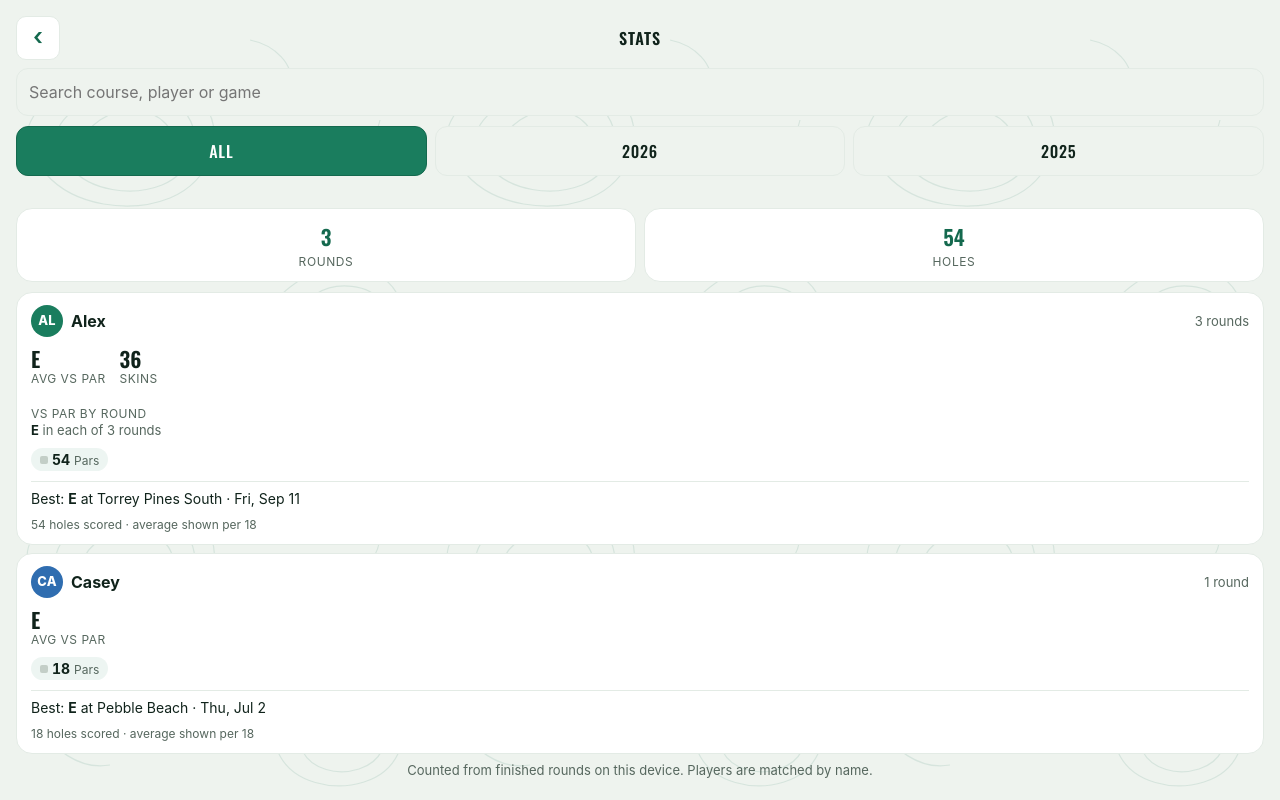
Scenario: filtering the stats › combines the two, and names both when they leave nothing
Step 1. Click the button "2025" → {"x": 1059, "y": 151}, box [853, 126, 1264, 176]
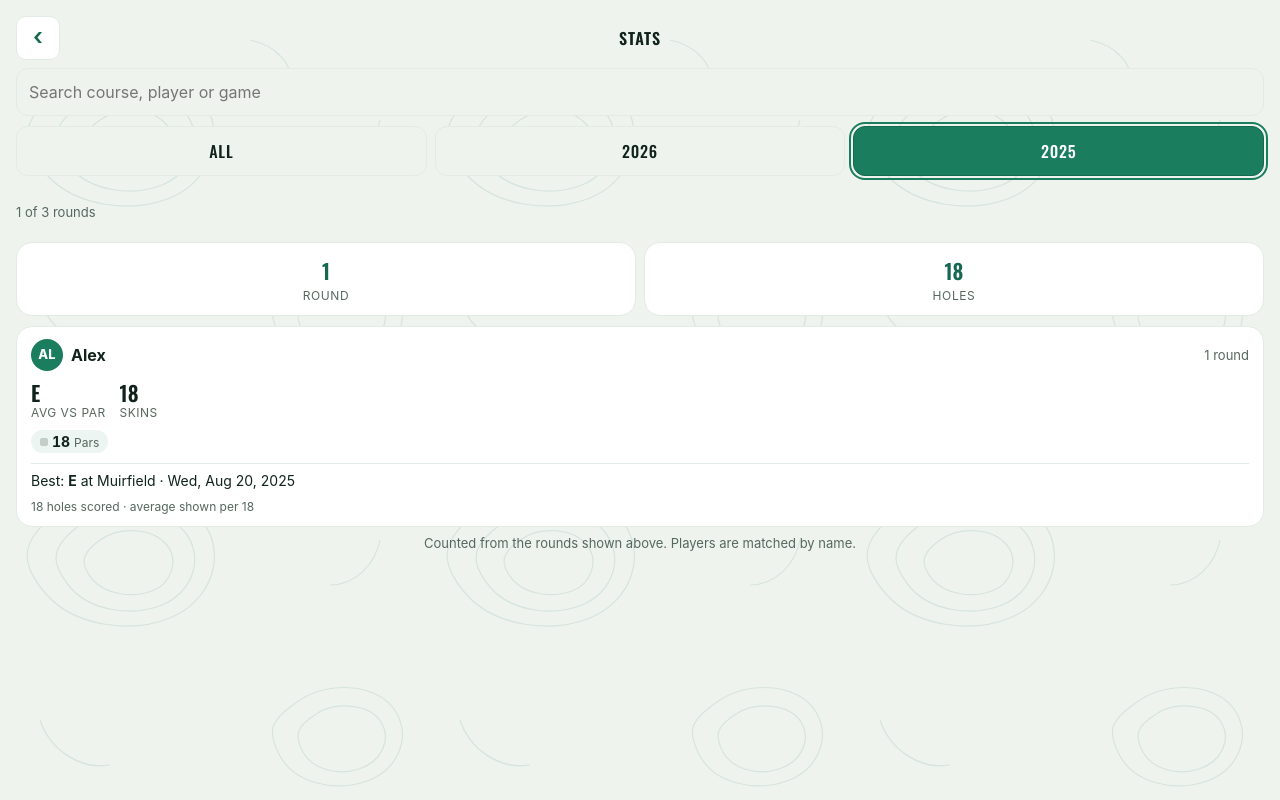
Step 2. Type "pebble" into the search field named "Search rounds" → {"x": 640, "y": 92}, box [16, 68, 1264, 116]
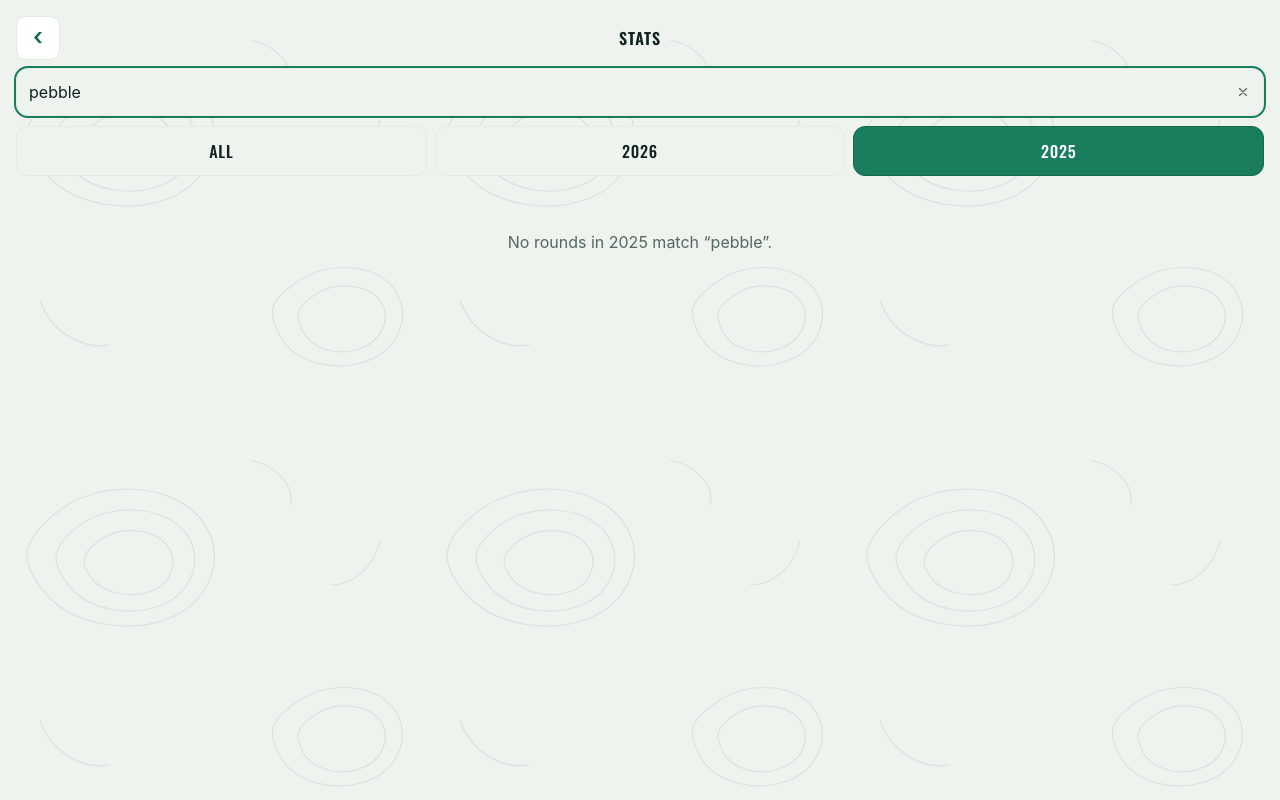
Result: the text "No rounds in 2025 match “pebble”." is shown at [508, 232, 772, 252]
Result: the element with class "stat-summary" is gone
